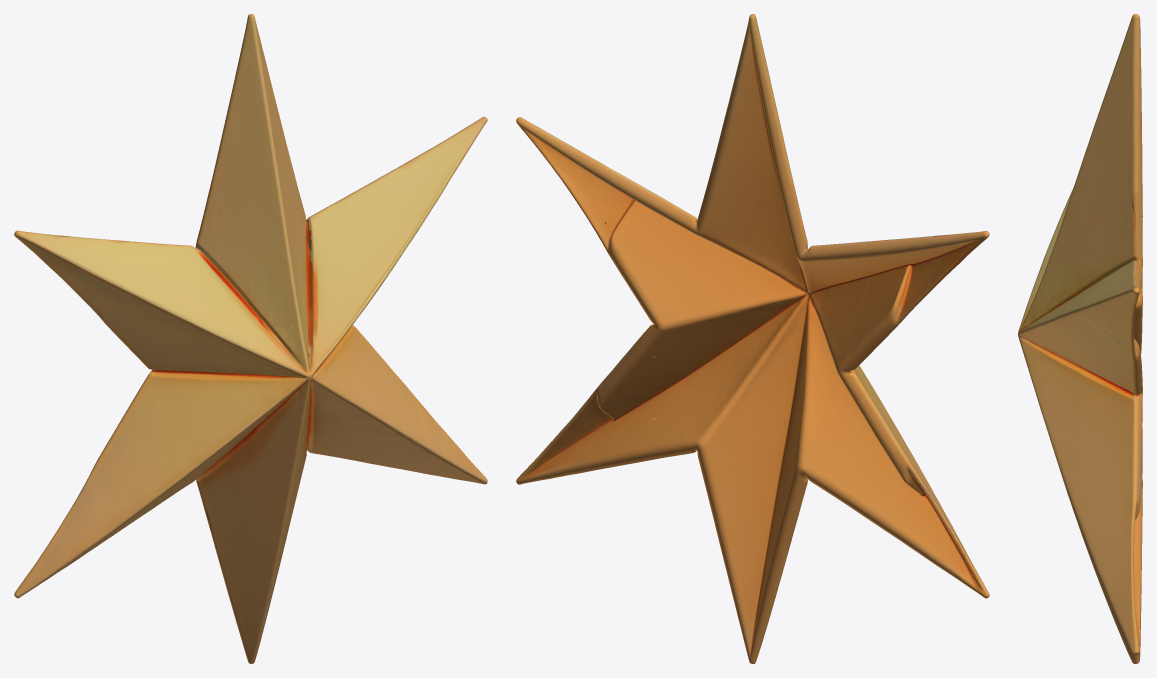
Rendered from wings_of_freedom-star-3056.glb.
The picture shows the model from 3 angles, left to right: view 1: azimuth 30°, elevation 25°; view 2: azimuth 150°, elevation 25°; view 3: azimuth 270°, elevation 25°; orthographic projection.
Parts seen in each view (by area): view 1: texture_pbr_v128; view 2: texture_pbr_v128; view 3: texture_pbr_v128.
Boxes of the visible parts, box(x1,y1,x2,y2) form: texture_pbr_v128: box(14, 14, 487, 663); texture_pbr_v128: box(516, 14, 989, 663); texture_pbr_v128: box(1018, 14, 1142, 663).
Size of the model in its own units: 0.8999 by 1.18 by 0.2061.
Materials: 1 (1 with a texture image).
